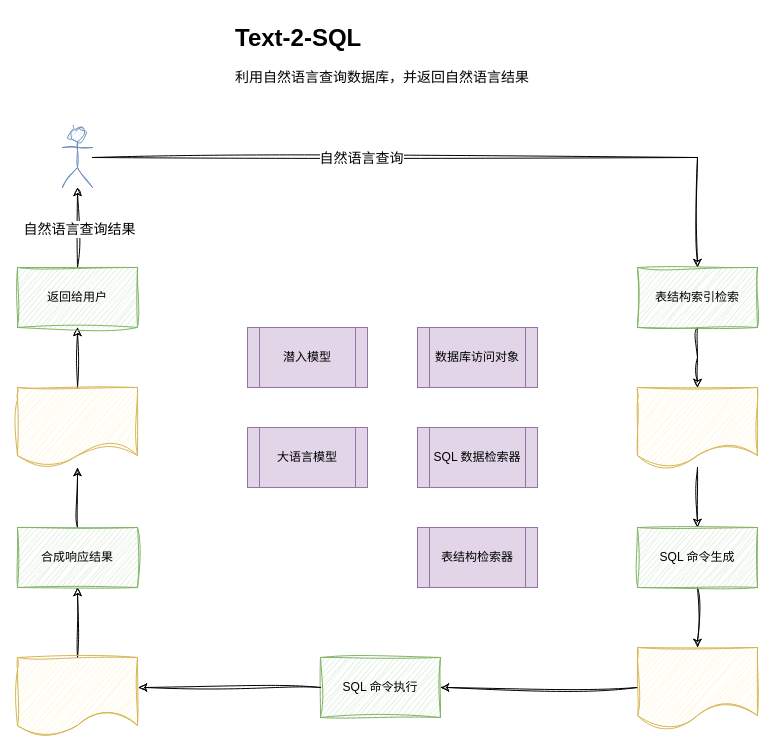
This 775x755 diagram has some shape labels left out. Here are the shapes that lost their labels. From the top down, the box of each, then its label:
(16, 386, 138, 468): 最终答案
(636, 386, 758, 468): 查询到表结构信息
(16, 656, 138, 738): 相关表数据
(636, 646, 758, 728): 正确的 SQL 脚本
